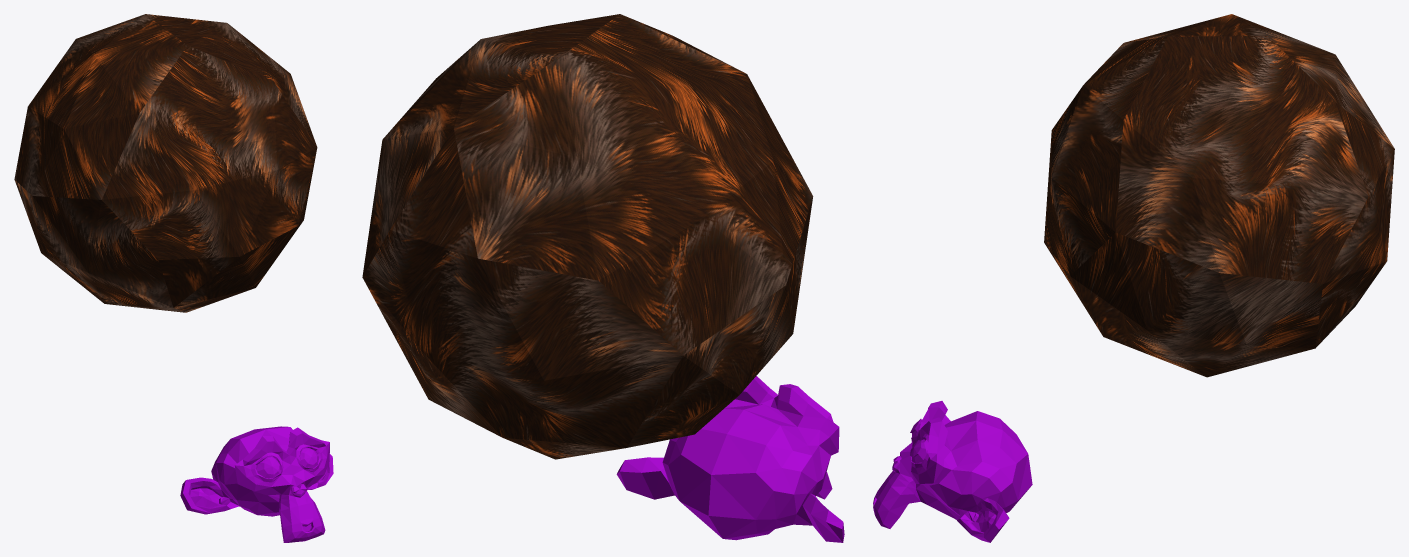
The model's file is ball_00.dae.
3 renders of one model, left to right at view 1: azimuth 30°, elevation 25°; view 2: azimuth 150°, elevation 25°; view 3: azimuth 270°, elevation 25°, orthographic. The views are drawn at different scales.
Parts seen in each view (by area): view 1: Icosphere, Suzanne; view 2: Icosphere, Suzanne; view 3: Icosphere, Suzanne.
Boxes of the visible parts, x1=… form: Icosphere: x1=14, y1=14, x2=317, y2=312; Suzanne: x1=180, y1=426, x2=333, y2=542; Icosphere: x1=362, y1=14, x2=813, y2=459; Suzanne: x1=616, y1=376, x2=844, y2=542; Icosphere: x1=1044, y1=14, x2=1394, y2=377; Suzanne: x1=873, y1=401, x2=1032, y2=542.
Bounding box in the file's own units: 2 × 2.85 × 2.93.
